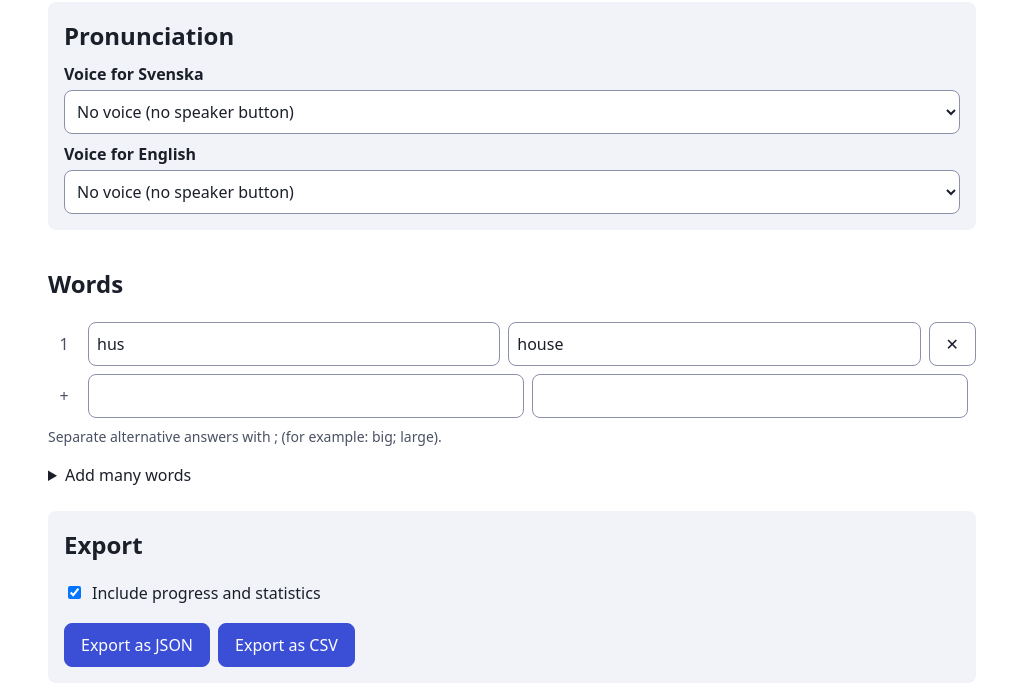
Scenario: editing pairs › FR-SET-6: reverts an edit that empties a field
(page scrolled)
Expected: the heading "Words" is shown, [48,267,123,300]
Clear the field named "Svenska, word 1" at (294, 344), box [88,322,500,366]
(page scrolled)
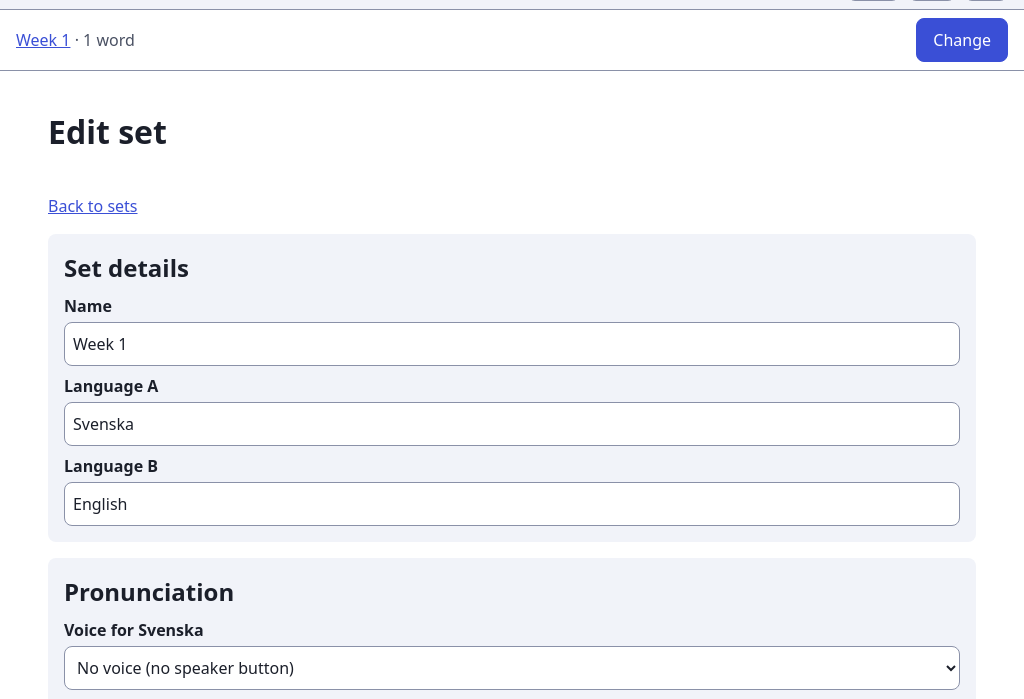
Click the field labelled "Name" at (512, 344), box [64,322,960,366]
(page scrolled)
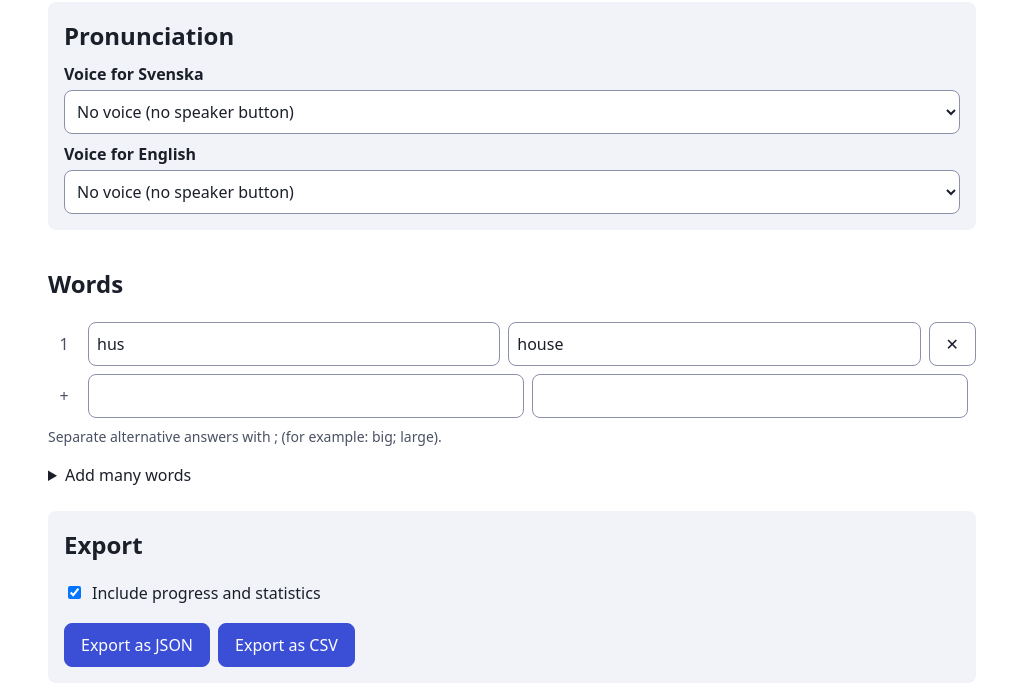
Expected: the field named "Svenska, word 1" holds "hus", [88,322,500,366]
